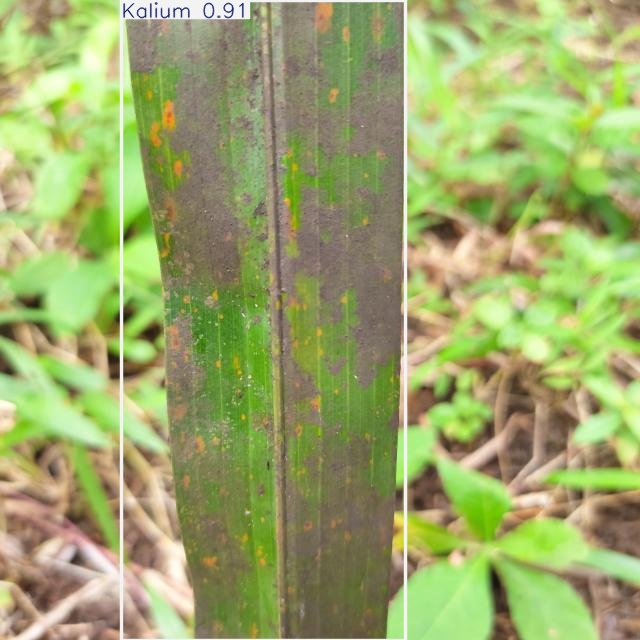Kalium: (122, 0, 406, 640)
